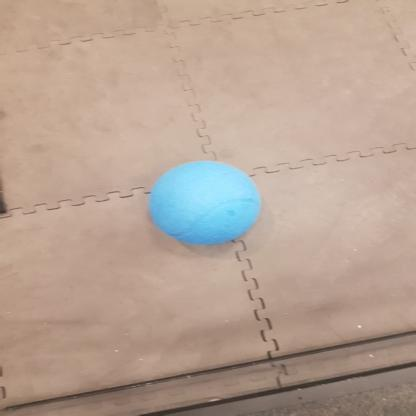ball: (152, 160, 264, 244)
